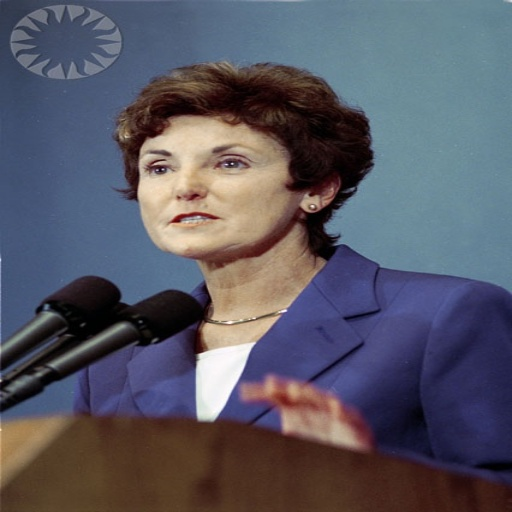hand: (241, 369, 376, 444)
